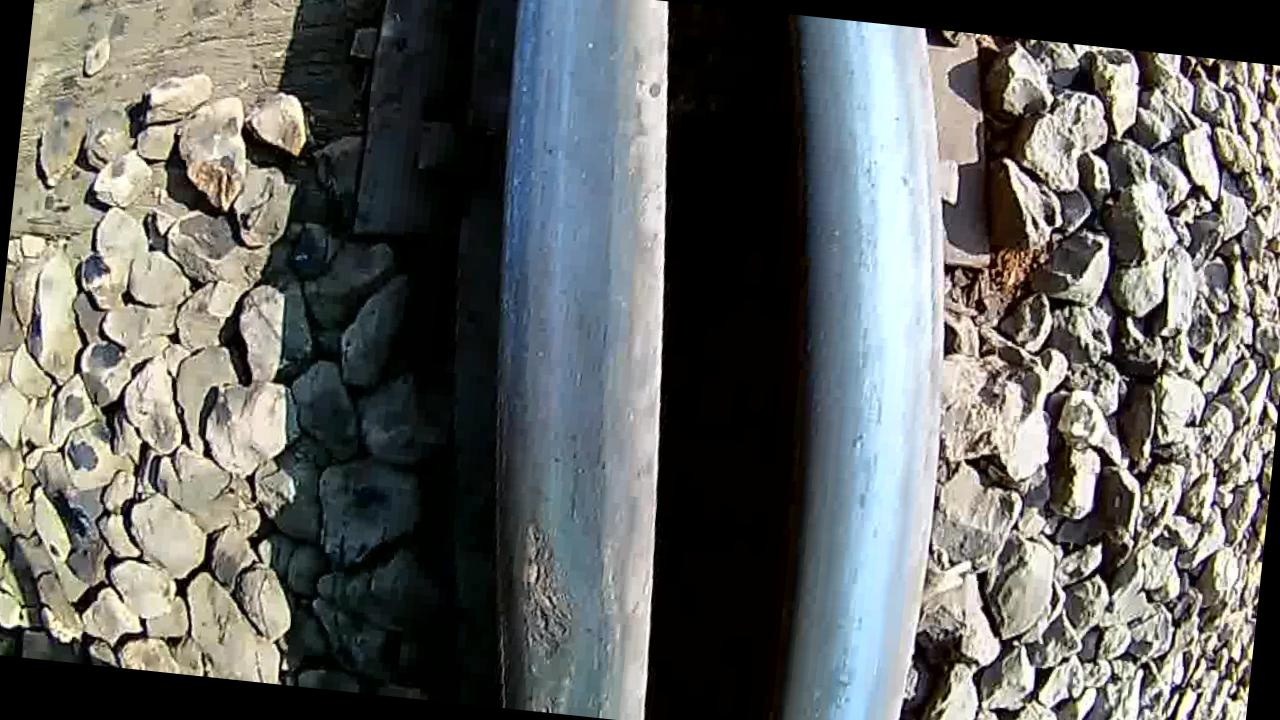crack: (463, 303, 647, 718)
